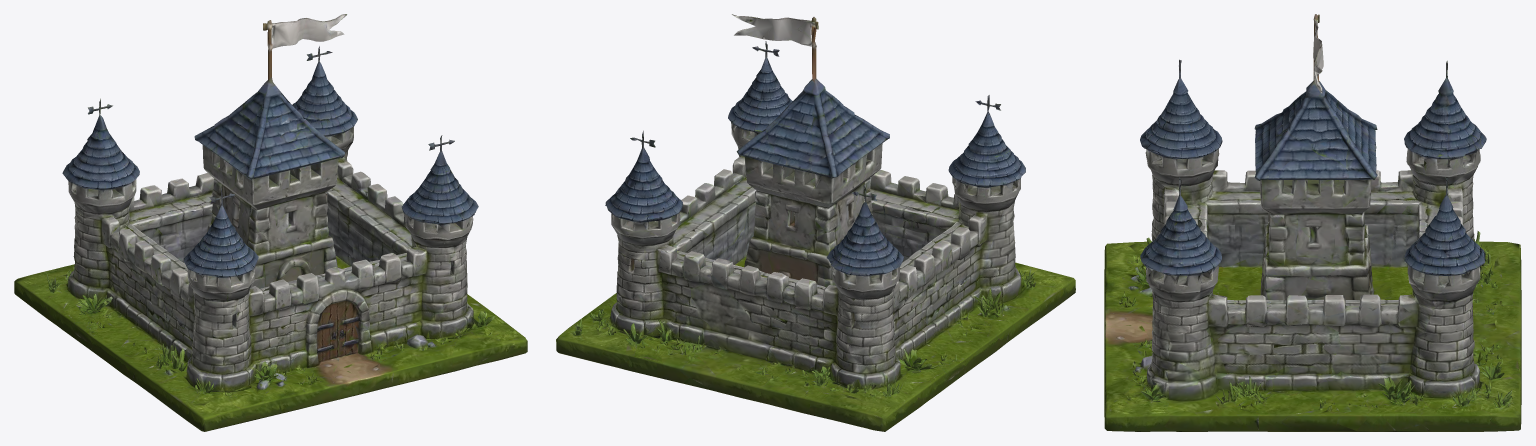
File: castle.glb
3 renders of one model, left to right at view 1: azimuth 30°, elevation 25°; view 2: azimuth 150°, elevation 25°; view 3: azimuth 270°, elevation 25°, orthographic. The views are drawn at different scales.
Visible parts, largest first — view 1: node_0; view 2: node_0; view 3: node_0.
Boxes of the visible parts, box(x1,y1,x2,y2) form: node_0: box(14, 14, 527, 431); node_0: box(556, 14, 1075, 431); node_0: box(1104, 14, 1521, 431).
Size of the model in its own units: 1.88 by 1.67 by 1.9.
Materials: 1 (1 with a texture image).
